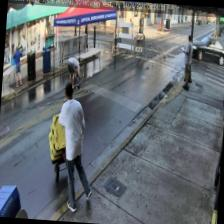person: (51, 80, 98, 212)
